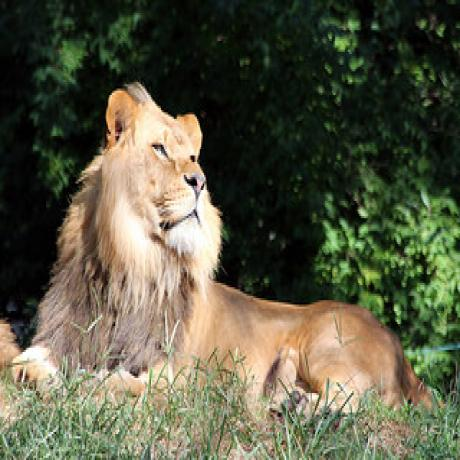Lion: (12, 76, 436, 423)
